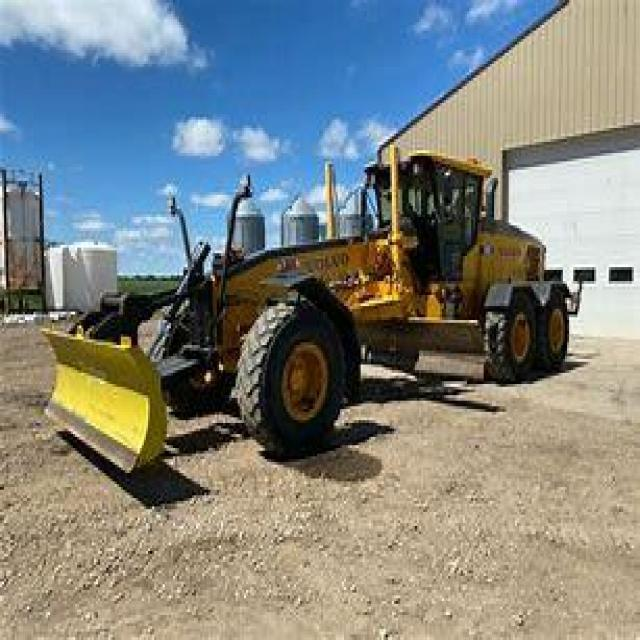Grader: (25, 125, 596, 459)
